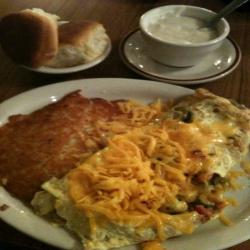bread: (3, 7, 65, 73), (47, 16, 113, 73)
omelette: (58, 87, 250, 242)
